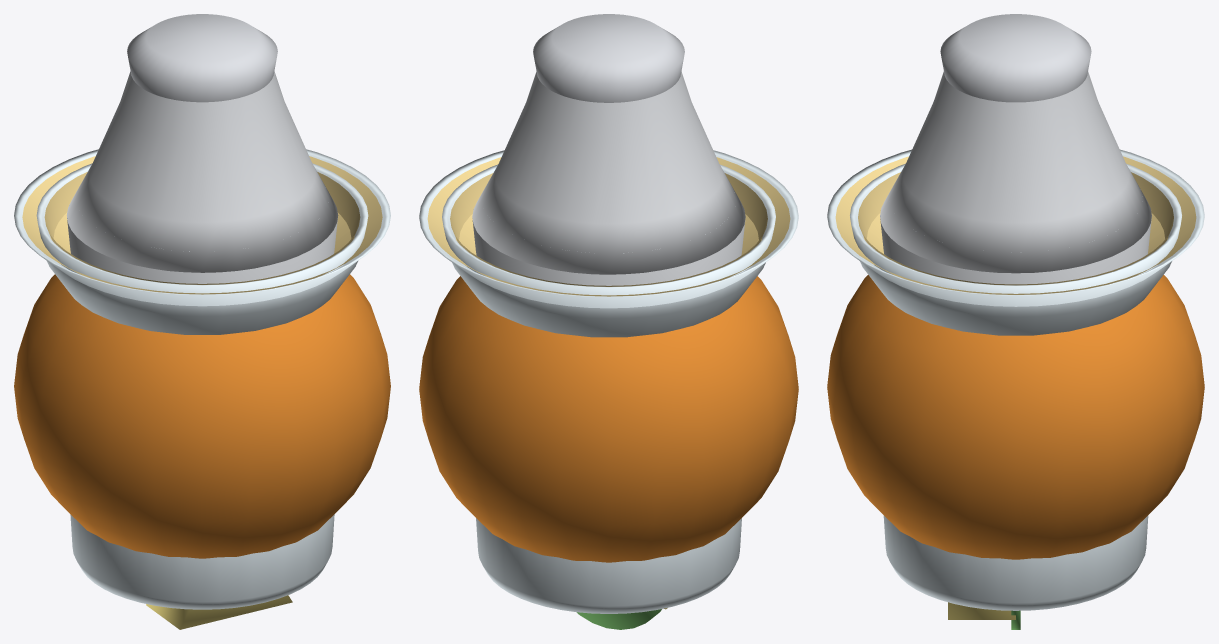
File: bar-props.glb
3 views of the same model, side by side, from view 1: azimuth 30°, elevation 25°; view 2: azimuth 150°, elevation 25°; view 3: azimuth 270°, elevation 25° (orthographic).
Parts seen in each view (by area): view 1: item_orange, shaker_cap, glass_rocks, glass_coupe, shaker_lid, glass_martini, liquid_martini, shaker_body, liquid_coupe, garnish_pineapple; view 2: item_orange, shaker_cap, glass_rocks, glass_coupe, shaker_lid, glass_martini, liquid_martini, shaker_body, liquid_coupe, garnish_lime; view 3: item_orange, shaker_cap, glass_rocks, glass_coupe, shaker_lid, glass_martini, liquid_martini, shaker_body, liquid_coupe, garnish_pineapple.
Part boxes in pixels (x1=…): item_orange: x1=14, y1=274, x2=390, y2=558; shaker_cap: x1=66, y1=71, x2=338, y2=272; glass_rocks: x1=70, y1=514, x2=334, y2=609; glass_coupe: x1=36, y1=163, x2=368, y2=334; shaker_lid: x1=127, y1=14, x2=277, y2=102; glass_martini: x1=14, y1=149, x2=390, y2=306; liquid_martini: x1=22, y1=156, x2=382, y2=294; shaker_body: x1=67, y1=218, x2=337, y2=283; liquid_coupe: x1=44, y1=172, x2=360, y2=284; garnish_pineapple: x1=146, y1=595, x2=292, y2=629; item_orange: x1=419, y1=276, x2=798, y2=562; shaker_cap: x1=472, y1=71, x2=745, y2=274; glass_rocks: x1=476, y1=518, x2=741, y2=613; glass_coupe: x1=442, y1=164, x2=775, y2=337; shaker_lid: x1=533, y1=14, x2=684, y2=102; glass_martini: x1=419, y1=150, x2=798, y2=308; liquid_martini: x1=427, y1=157, x2=790, y2=296; shaker_body: x1=472, y1=218, x2=745, y2=285; liquid_coupe: x1=450, y1=173, x2=767, y2=286; garnish_lime: x1=577, y1=609, x2=661, y2=629; item_orange: x1=827, y1=275, x2=1204, y2=559; shaker_cap: x1=880, y1=71, x2=1151, y2=273; glass_rocks: x1=883, y1=515, x2=1148, y2=610; glass_coupe: x1=850, y1=163, x2=1181, y2=335; shaker_lid: x1=940, y1=14, x2=1091, y2=102; glass_martini: x1=827, y1=149, x2=1204, y2=306; liquid_martini: x1=835, y1=156, x2=1196, y2=294; shaker_body: x1=880, y1=216, x2=1151, y2=284; liquid_coupe: x1=858, y1=172, x2=1173, y2=285; garnish_pineapple: x1=948, y1=602, x2=1015, y2=619.
Size of the model in its own units: 1 by 1.72 by 1.
